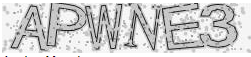3: (199, 2, 239, 51)
A: (9, 4, 48, 53)
E: (161, 2, 205, 51)
N: (124, 3, 162, 52)
P: (46, 2, 87, 49)
W: (84, 3, 124, 52)
